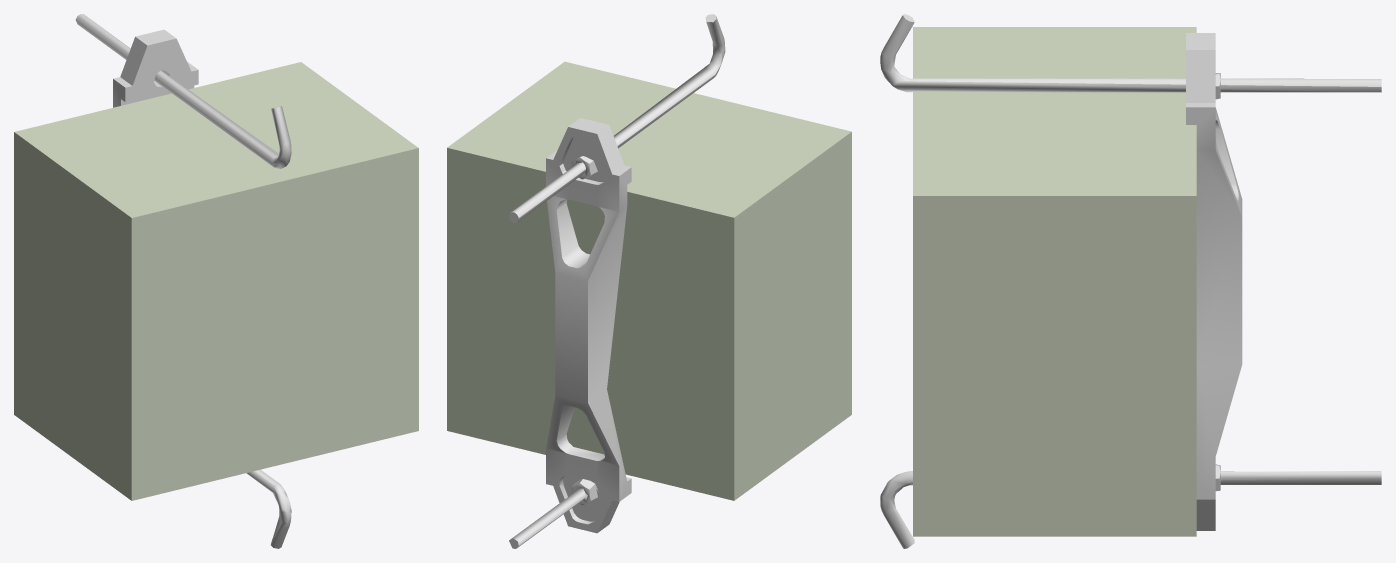
The model's file is battery.dae.
3 renders of one model, left to right at view 1: azimuth 30°, elevation 25°; view 2: azimuth 150°, elevation 25°; view 3: azimuth 270°, elevation 25°, orthographic. The views are drawn at different scales.
Parts seen in each view (by area): view 1: tmp_export_battery; view 2: tmp_export_battery; view 3: tmp_export_battery.
Boxes of the visible parts, box(x1,y1,x2,y2) form: tmp_export_battery: box(14, 14, 418, 548); tmp_export_battery: box(447, 14, 851, 548); tmp_export_battery: box(880, 14, 1381, 548).
Bounding box in the file's own units: 0.1753 × 0.2202 × 0.2579.
